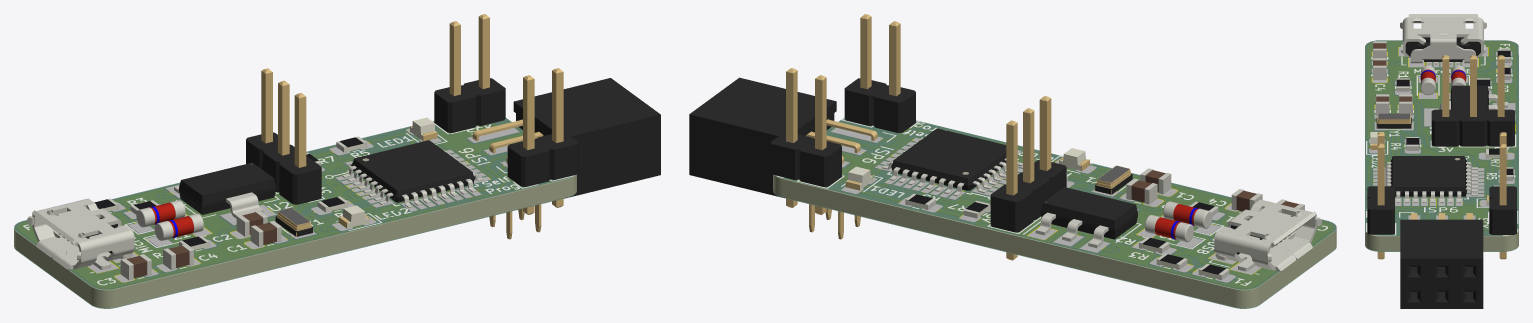
The model's file is board.glb.
3 renders of one model, left to right at view 1: azimuth 30°, elevation 25°; view 2: azimuth 150°, elevation 25°; view 3: azimuth 270°, elevation 25°, orthographic. The views are drawn at different scales.
Visible parts, largest first — view 1: board_soldermask (×2), board_PCB, PinSocket_2x03_P2.54mm_Horizontal, PinHeader_1x02_P254mm_Vertical (×2), board_copper, TQFP-32_7x7mm_P0.8mm, PinHeader_1x03_P254mm_Vertical, USB_Micro-B_Molex_47346-0001, board_pad, SOT-223, C_0805_2012Metric (×4), board_silkscreen (+3 smaller); view 2: board_PCB, board_soldermask (×2), PinSocket_2x03_P2.54mm_Horizontal, PinHeader_1x02_P254mm_Vertical (×2), PinHeader_1x03_P254mm_Vertical, TQFP-32_7x7mm_P0.8mm, USB_Micro-B_Molex_47346-0001, board_copper, board_pad, SOT-223, board_silkscreen, D_MiniMELF_Standard (×2) (+3 smaller); view 3: board_soldermask, PinSocket_2x03_P2.54mm_Horizontal, PinHeader_1x03_P254mm_Vertical, board_PCB, board_copper, USB_Micro-B_Molex_47346-0001, TQFP-32_7x7mm_P0.8mm, PinHeader_1x02_P254mm_Vertical (×2), board_pad, board_silkscreen, C_0805_2012Metric (×4), SOT-223 (+4 smaller).
Part boxes in pixels (x1,y1,x2,y2): board_soldermask (×2): (14,118,576,308); board_PCB: (14,119,576,308); PinSocket_2x03_P2.54mm_Horizontal: (472,78,660,239); PinHeader_1x02_P254mm_Vertical (×2): (434,14,578,214); board_copper: (18,123,522,288); TQFP-32_7x7mm_P0.8mm: (342,140,483,207); PinHeader_1x03_P254mm_Vertical: (246,68,321,204); USB_Micro-B_Molex_47346-0001: (27,198,134,269); board_pad: (88,128,518,282); SOT-223: (174,162,275,218); C_0805_2012Metric (×4): (120,210,281,279); board_silkscreen: (23,120,573,285); board_PCB: (773,119,1336,308); board_soldermask (×2): (773,118,1336,308); PinSocket_2x03_P2.54mm_Horizontal: (689,77,877,239); PinHeader_1x02_P254mm_Vertical (×2): (770,14,915,214); PinHeader_1x03_P254mm_Vertical: (990,96,1066,260); TQFP-32_7x7mm_P0.8mm: (882,128,1022,196); USB_Micro-B_Molex_47346-0001: (1214,199,1321,271); board_copper: (796,125,1332,288); board_pad: (831,128,1260,282); SOT-223: (1035,187,1137,248); board_silkscreen: (776,117,1327,285); D_MiniMELF_Standard (×2): (1144,201,1212,242); board_soldermask: (1365,40,1518,235); PinSocket_2x03_P2.54mm_Horizontal: (1400,213,1483,308); PinHeader_1x03_P254mm_Vertical: (1431,55,1514,146); board_PCB: (1365,42,1518,251); board_copper: (1367,42,1515,229); USB_Micro-B_Molex_47346-0001: (1400,14,1486,64); TQFP-32_7x7mm_P0.8mm: (1384,156,1477,202); PinHeader_1x02_P254mm_Vertical (×2): (1367,132,1516,259); board_pad: (1369,47,1514,219); board_silkscreen: (1366,44,1518,235); C_0805_2012Metric (×4): (1373,41,1412,115); SOT-223: (1431,85,1507,110).
Bounding box in the file's own units: 0.0512 × 0.0148 × 0.0141.
